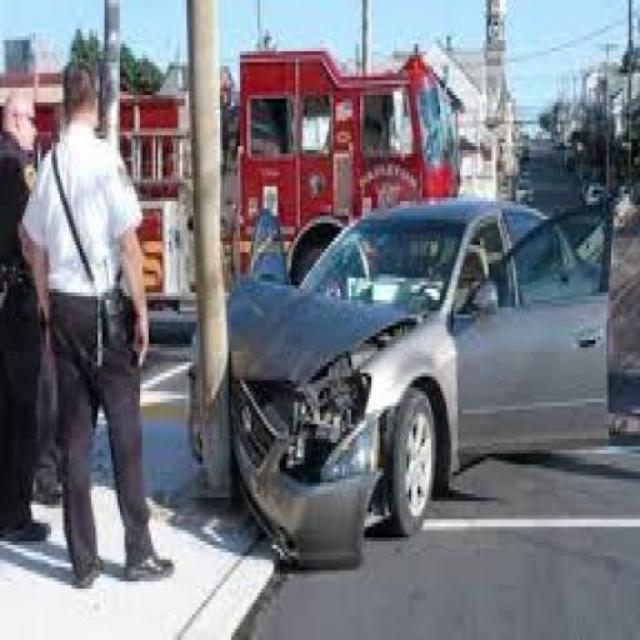dislocated part: (189, 310, 417, 584)
